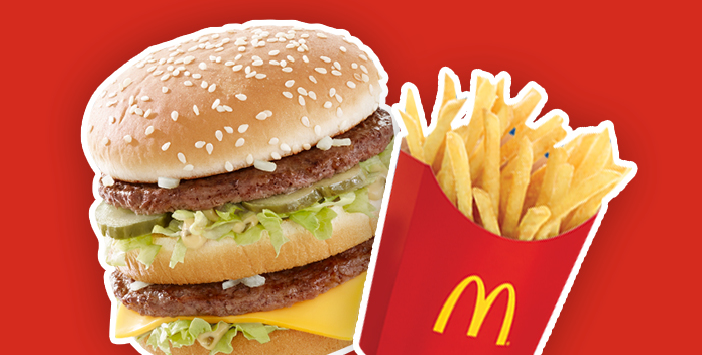mcdonalds: (425, 270, 520, 350)
